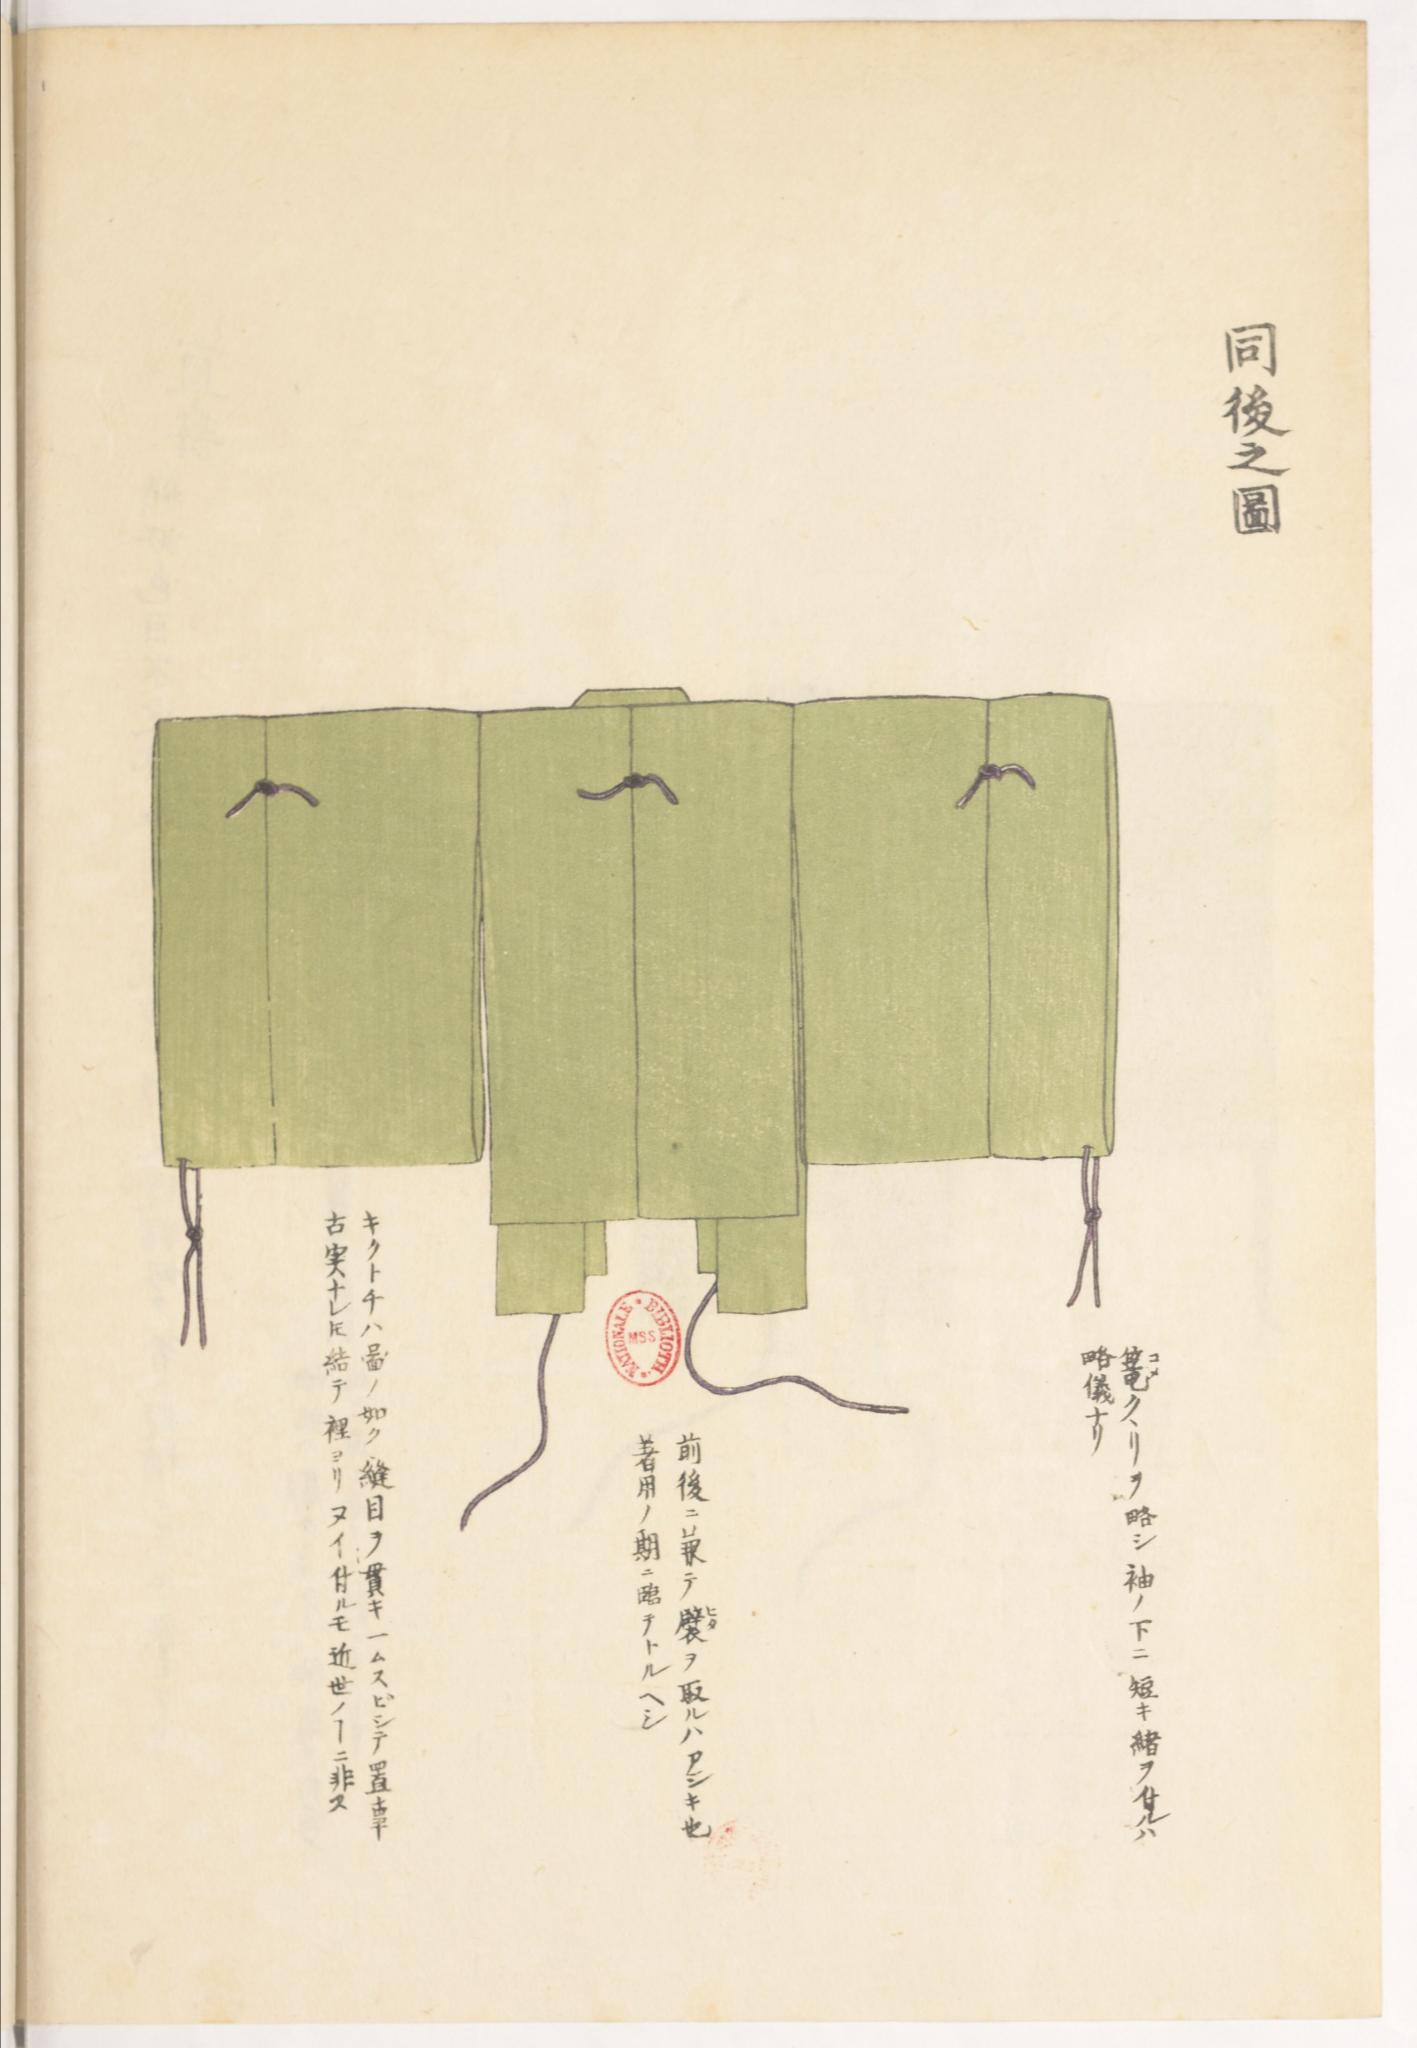MainZone-Character: (1115, 1340, 1168, 1393), (677, 1598, 723, 1646)
MainZone-Ruby: (703, 1601, 722, 1636), (1145, 1346, 1160, 1380)
